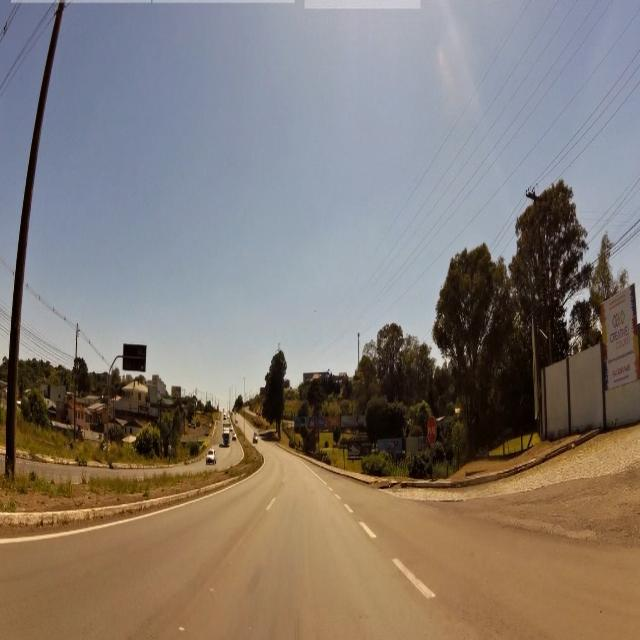R-1: (427, 418, 437, 445)
